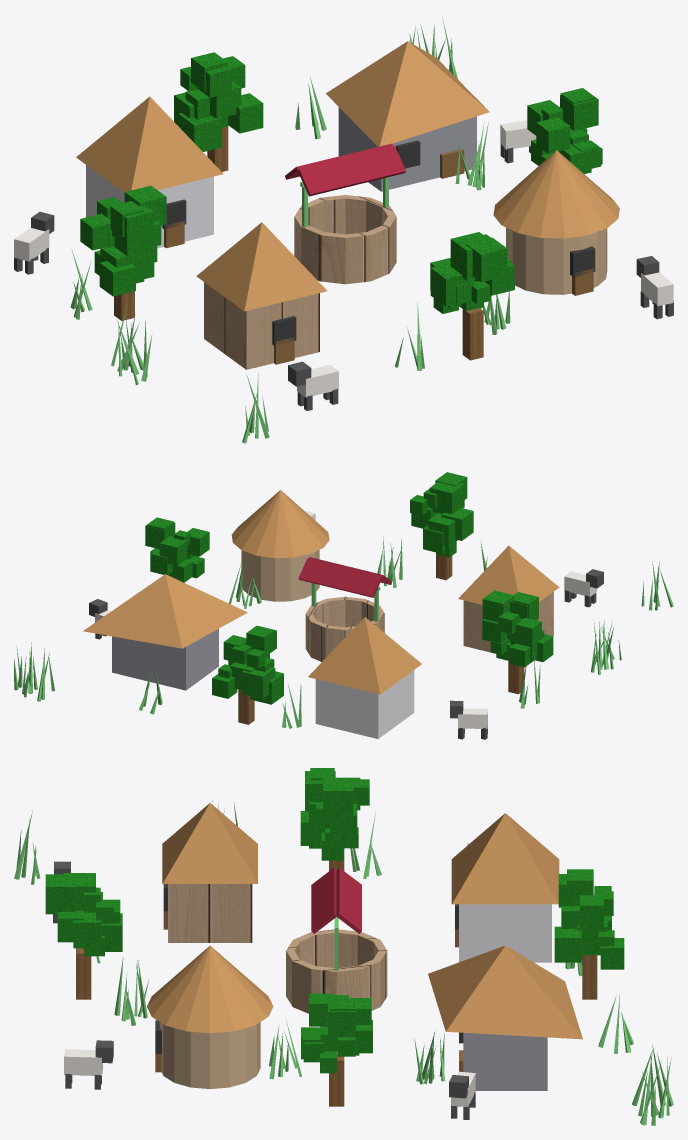
The model's file is zil_e_huma_story_v1.glb.
3 views of the same model, one above another, from view 1: azimuth 30°, elevation 25°; view 2: azimuth 150°, elevation 25°; view 3: azimuth 270°, elevation 25° (orthographic). The views are drawn at different scales.
Parts seen in each view (by area): view 1: House4_Roof, WoodenWell, House3_Roof, Tree2, House2_Roof, Tree3, Tree4, House1_Roof, Cows_Combined, House1_Base, Tree1, House2_Base (+7 smaller); view 2: House4_Roof, House3_Roof, Tree2, House3_Base, Tree3, House4_Base, House2_Roof, Tree4, WoodenWell, Tree1, House2_Base, House1_Roof (+7 smaller); view 3: House4_Roof, House3_Roof, House2_Roof, WoodenWell, Tree3, House1_Roof, Tree4, House2_Base, Tree1, Tree2, House1_Base, House3_Base (+10 smaller).
Boxes of the visible parts, <box> form: House4_Roof: <box>326,41,489,146</box>; WoodenWell: <box>294,195,396,284</box>; House3_Roof: <box>76,96,223,192</box>; Tree2: <box>80,185,166,320</box>; House2_Roof: <box>493,150,619,238</box>; Tree3: <box>174,52,263,171</box>; Tree4: <box>430,232,514,360</box>; House1_Roof: <box>196,222,327,311</box>; Cows_Combined: <box>14,120,673,410</box>; House1_Base: <box>204,282,319,369</box>; Tree1: <box>527,88,602,173</box>; House2_Base: <box>506,227,607,294</box>; House4_Roof: <box>83,574,247,648</box>; House3_Roof: <box>308,617,421,694</box>; Tree2: <box>482,590,553,694</box>; House3_Base: <box>315,670,414,738</box>; Tree3: <box>212,625,283,724</box>; House4_Base: <box>112,629,218,690</box>; House2_Roof: <box>231,490,329,558</box>; Tree4: <box>410,472,473,580</box>; WoodenWell: <box>305,596,384,661</box>; Tree1: <box>145,517,209,582</box>; House2_Base: <box>241,550,319,601</box>; House1_Roof: <box>458,545,559,604</box>; House4_Roof: <box>428,945,582,1039</box>; House3_Roof: <box>451,813,559,904</box>; House2_Roof: <box>147,945,273,1033</box>; WoodenWell: <box>286,929,387,1013</box>; Tree3: <box>554,869,624,999</box>; House1_Roof: <box>162,803,257,883</box>; Tree4: <box>45,873,122,999</box>; House2_Base: <box>159,1022,260,1088</box>; Tree1: <box>301,993,372,1106</box>; Tree2: <box>300,768,369,870</box>; House1_Base: <box>168,884,252,942</box>; House3_Base: <box>459,904,551,962</box>.
Bounding box in the file's own units: 15.09 × 3.41 × 15.64.
Materials: 40 (4 with a texture image).
